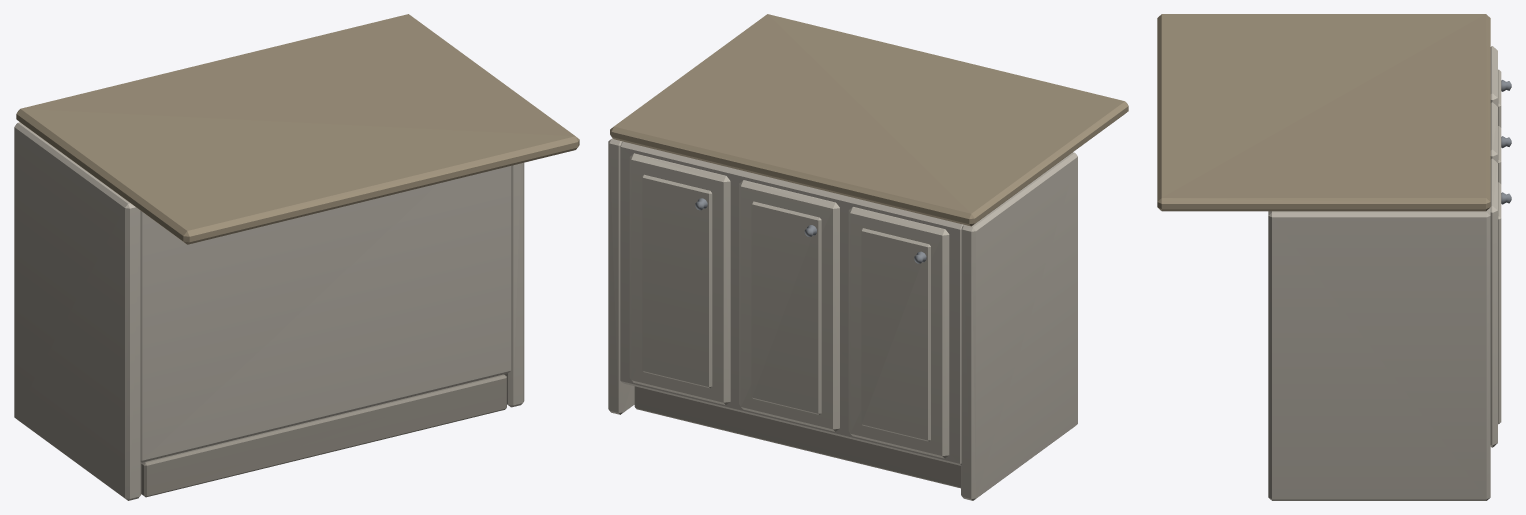
File: kitchen_island.glb
3 views of the same model, side by side, from view 1: azimuth 30°, elevation 25°; view 2: azimuth 150°, elevation 25°; view 3: azimuth 270°, elevation 25° (orthographic). The views are drawn at different scales.
Visible parts, largest first — view 1: kitchen_island; view 2: kitchen_island; view 3: kitchen_island.
Boxes of the visible parts, box(x1,y1,x2,y2) form: kitchen_island: box(14, 14, 579, 500); kitchen_island: box(608, 14, 1128, 500); kitchen_island: box(1157, 14, 1511, 500).
Size of the model in its own units: 1.21 by 0.9 by 0.957.
